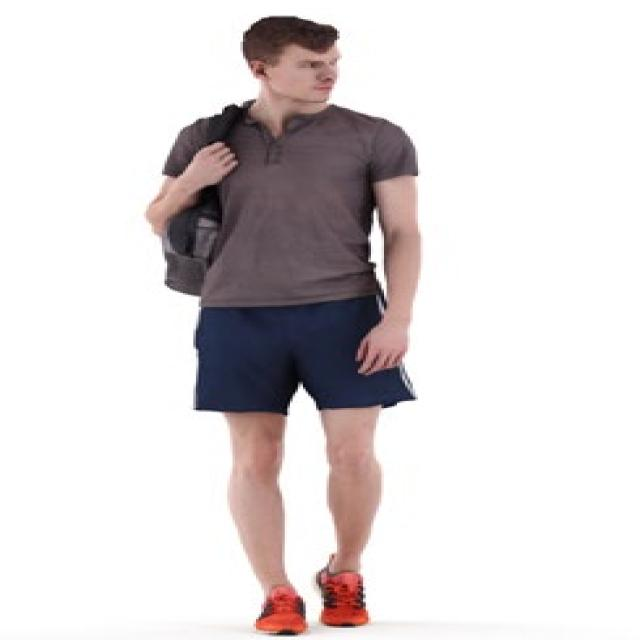standing: (145, 14, 426, 640)
